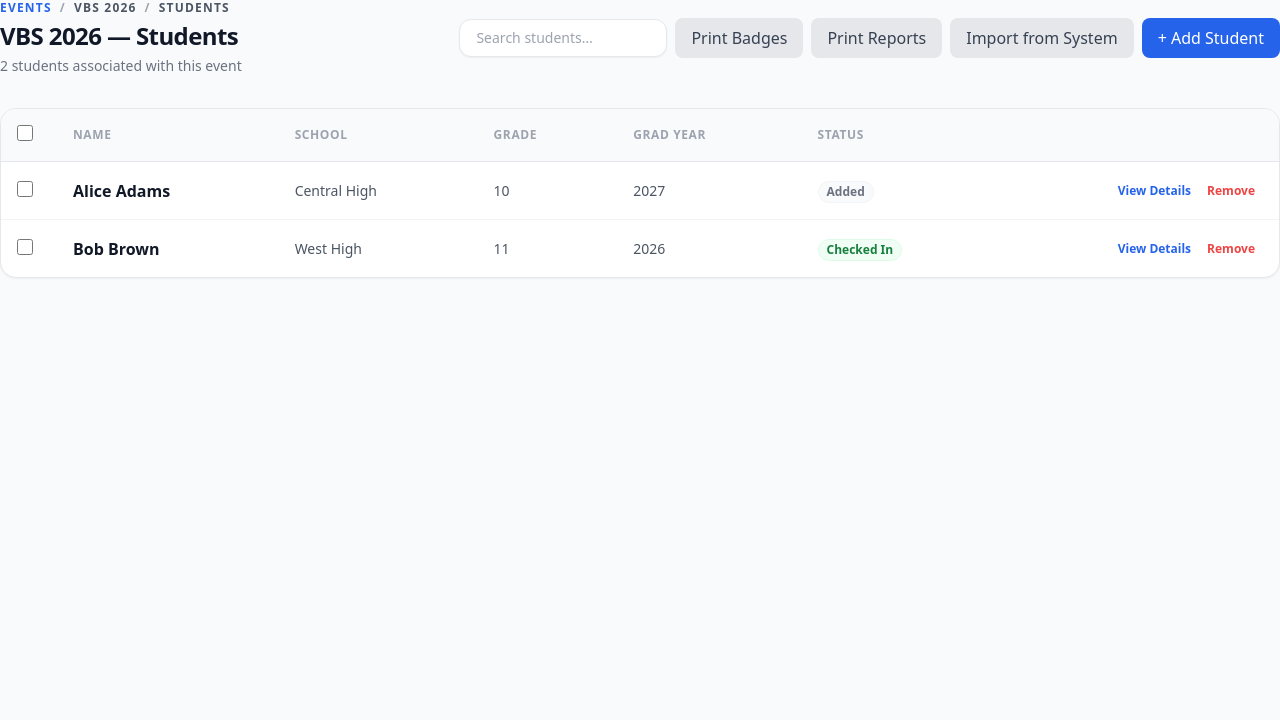
Test case: EventStudentsPage › opens Add Student modal on button click
Click the button "+ Add Student".
click(1211, 38)  # box [1142,18,1279,58]
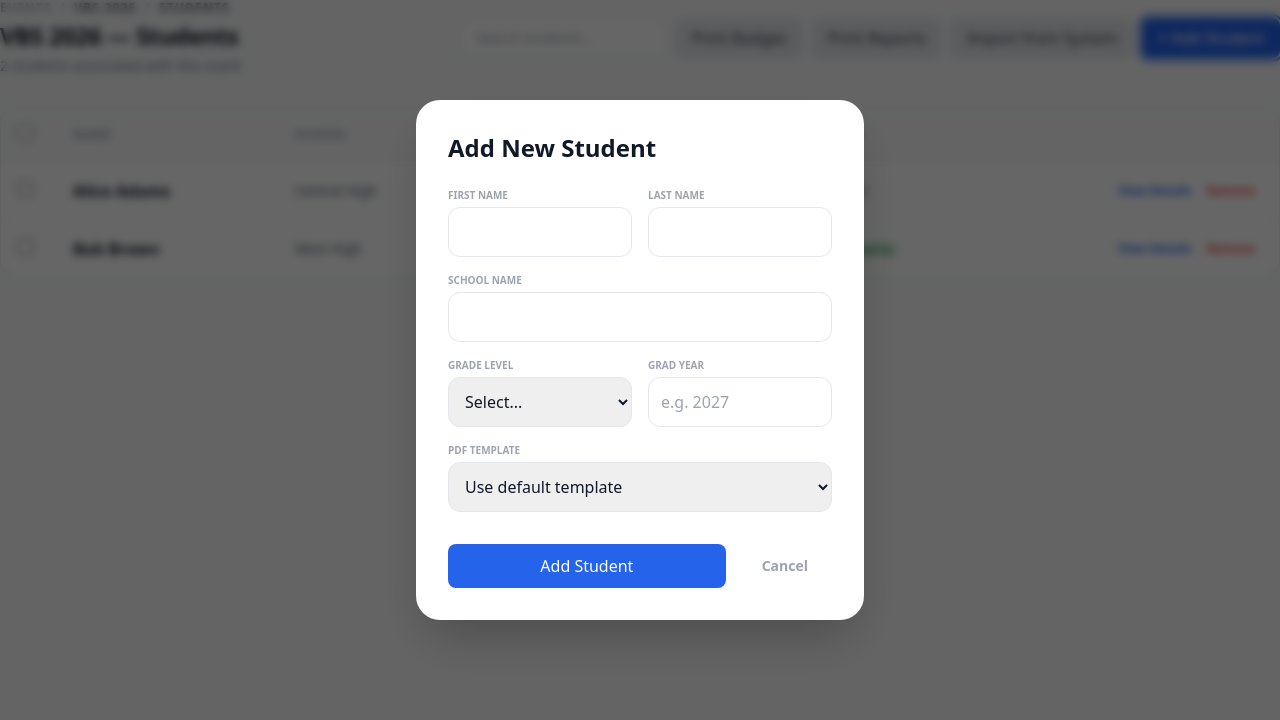
Now the heading "Add New Student" is shown, box [448,131,656,164]
